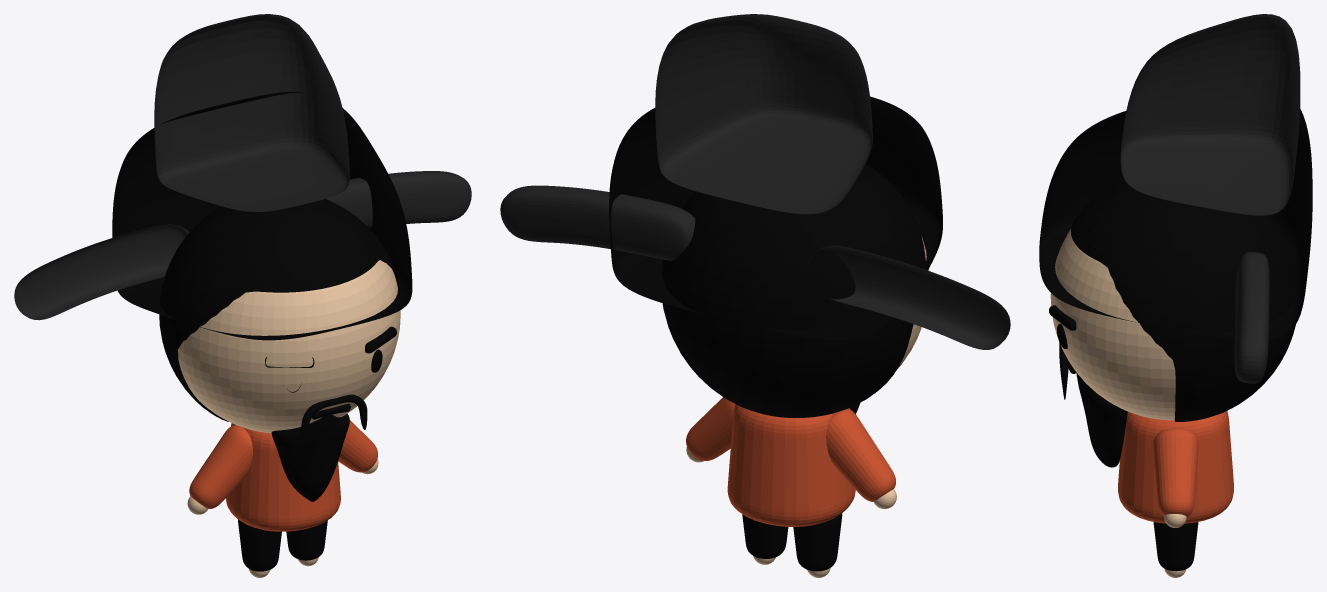
Rendered from 공민왕.glb.
The picture shows the model from 3 angles, left to right: view 1: azimuth 30°, elevation 25°; view 2: azimuth 150°, elevation 25°; view 3: azimuth 270°, elevation 25°; orthographic projection. The views are drawn at different scales.
Parts seen in each view (by area): view 1: 위4/공민왕; view 2: 위4/공민왕; view 3: 위4/공민왕.
Boxes of the visible parts, bbox=[...] form: 위4/공민왕: bbox=[14, 14, 471, 577]; 위4/공민왕: bbox=[500, 14, 1010, 577]; 위4/공민왕: bbox=[1039, 14, 1312, 577].
Bounding box in the file's own units: 2.69 × 2.94 × 1.37.
